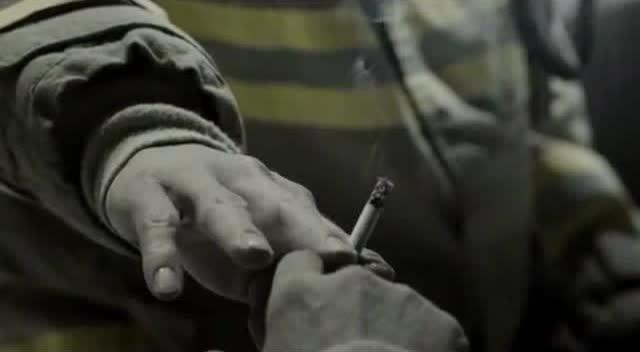Smoking: (346, 174, 394, 250)
